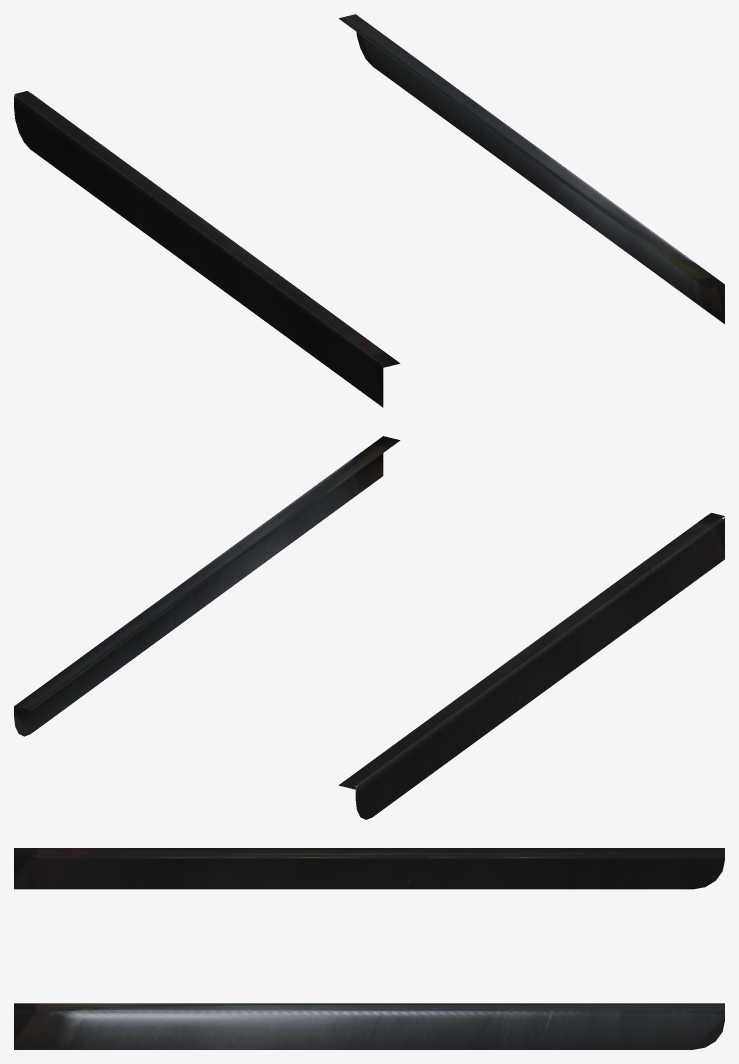
Rendered from layer4rails.fbx.
3 renders of one model, top to bottom at view 1: azimuth 30°, elevation 25°; view 2: azimuth 150°, elevation 25°; view 3: azimuth 270°, elevation 25°, orthographic. The views are drawn at different scales.
Parts seen in each view (by area): view 1: layer4rails; view 2: layer4rails; view 3: layer4rails.
Part boxes in pixels (x1=…): layer4rails: x1=14, y1=14, x2=724, y2=407; layer4rails: x1=14, y1=436, x2=724, y2=819; layer4rails: x1=14, y1=848, x2=724, y2=1049.
Size of the model in its own units: 56.72 by 6.88 by 106.
1 material, 1 textured.
